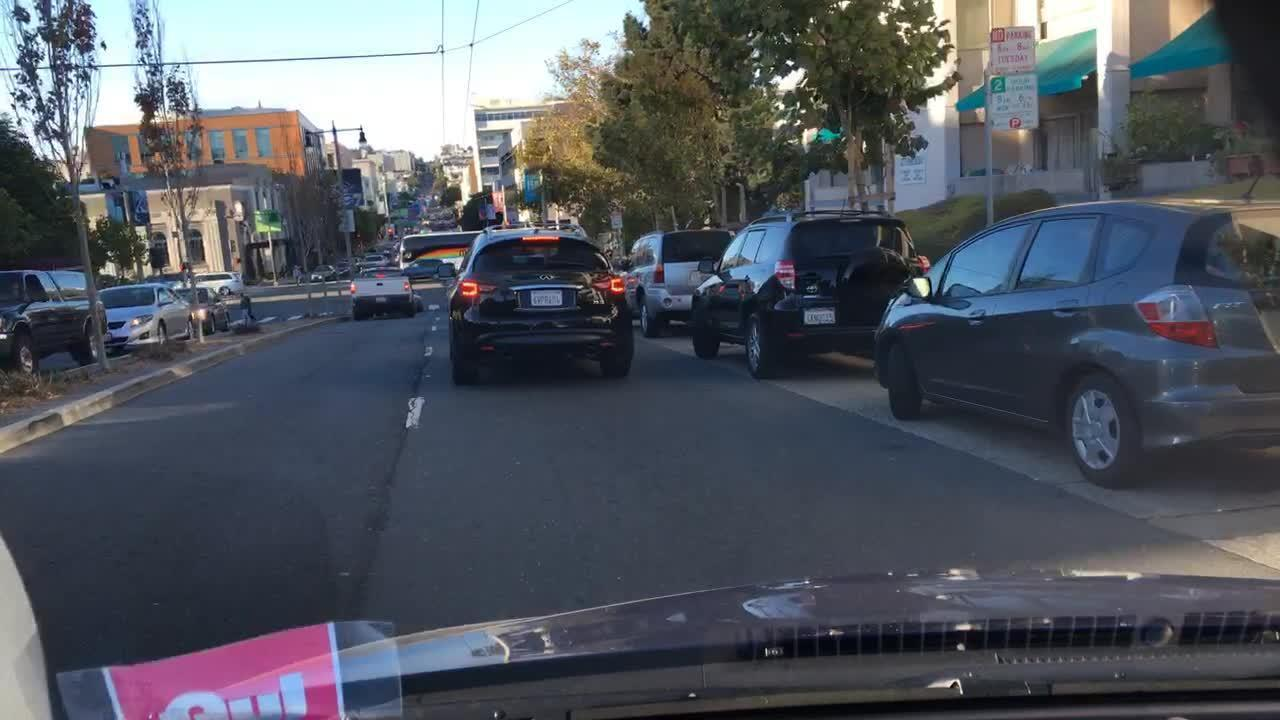Infiniti: (534, 268, 562, 287)
Toyota: (806, 284, 820, 295)
